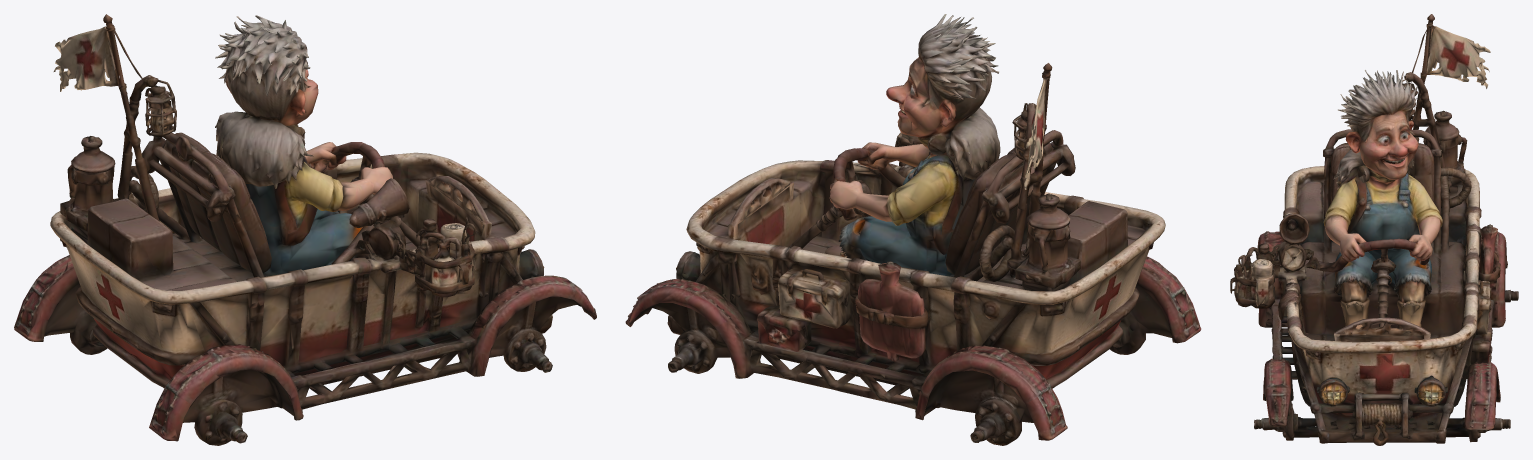
File: bigma.glb
The picture shows the model from 3 angles, left to right: view 1: azimuth 30°, elevation 25°; view 2: azimuth 150°, elevation 25°; view 3: azimuth 270°, elevation 25°; orthographic projection. The views are drawn at different scales.
Parts seen in each view (by area): view 1: tripo_node_e0cf2c50-4a65-42db-a471-6547915f81bc; view 2: tripo_node_e0cf2c50-4a65-42db-a471-6547915f81bc; view 3: tripo_node_e0cf2c50-4a65-42db-a471-6547915f81bc.
Boxes of the visible parts, x1,y1,x2,y2 form: tripo_node_e0cf2c50-4a65-42db-a471-6547915f81bc: (14,14,596,445); tripo_node_e0cf2c50-4a65-42db-a471-6547915f81bc: (625,14,1201,445); tripo_node_e0cf2c50-4a65-42db-a471-6547915f81bc: (1230,14,1518,445).
Size of the model in its own units: 0.9784 by 0.7921 by 0.6955.
1 material, 1 textured.
